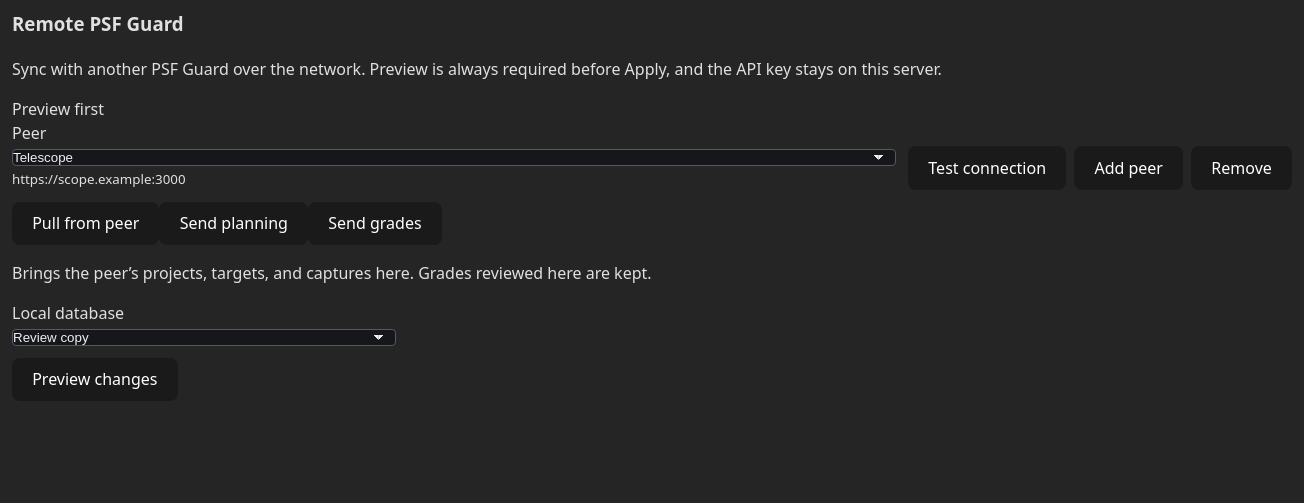
Test case: RemotePeerSync › drops a preview when the direction changes under it
Click the button "Preview changes".
click(95, 379)  # box [12,358,178,401]
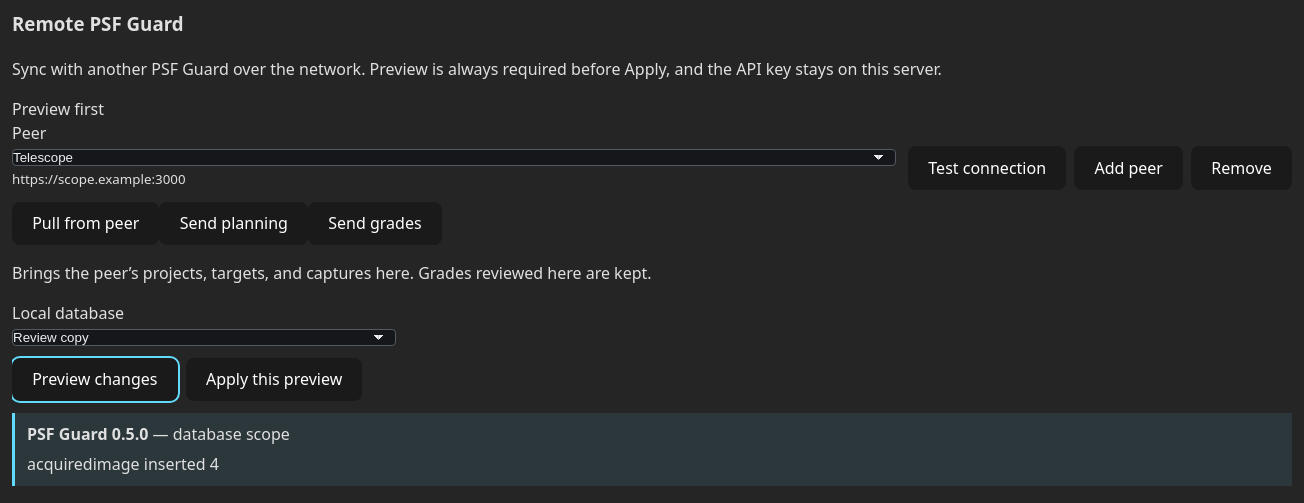
Now the button "Apply this preview" is shown, box [186,358,362,401]
Click the button "Send grades".
click(375, 223)  # box [308,202,442,245]
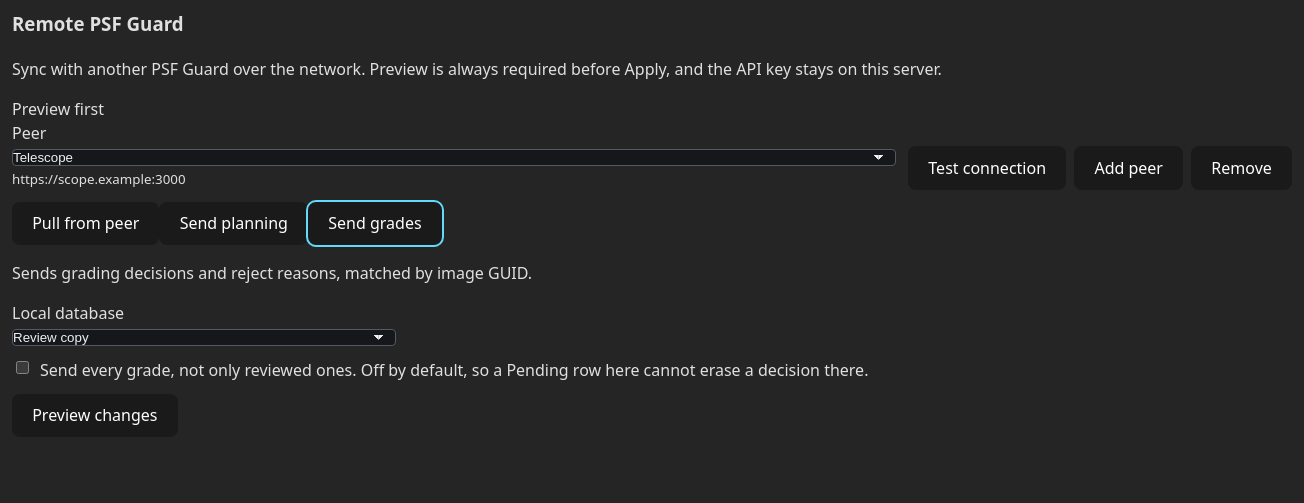
Now the button "Apply this preview" is gone
